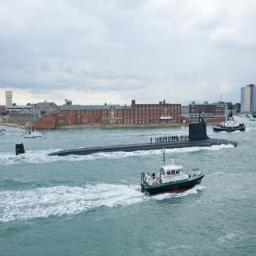submarine: (17, 115, 243, 163)
